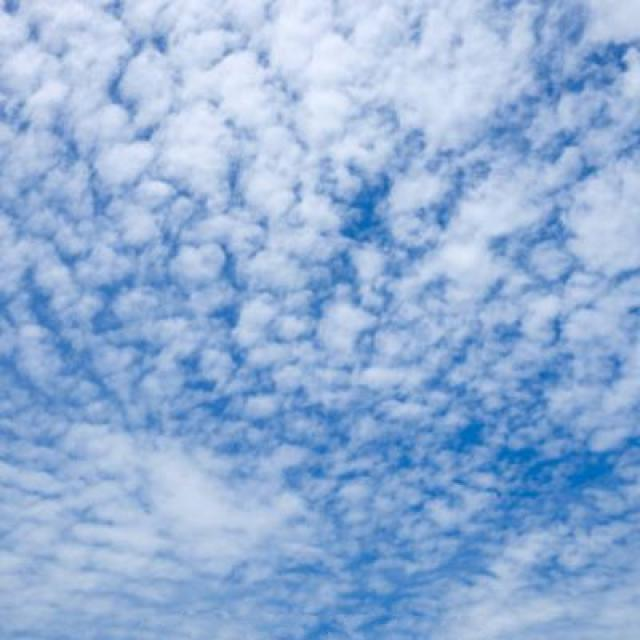Ci: (1, 1, 640, 574)
